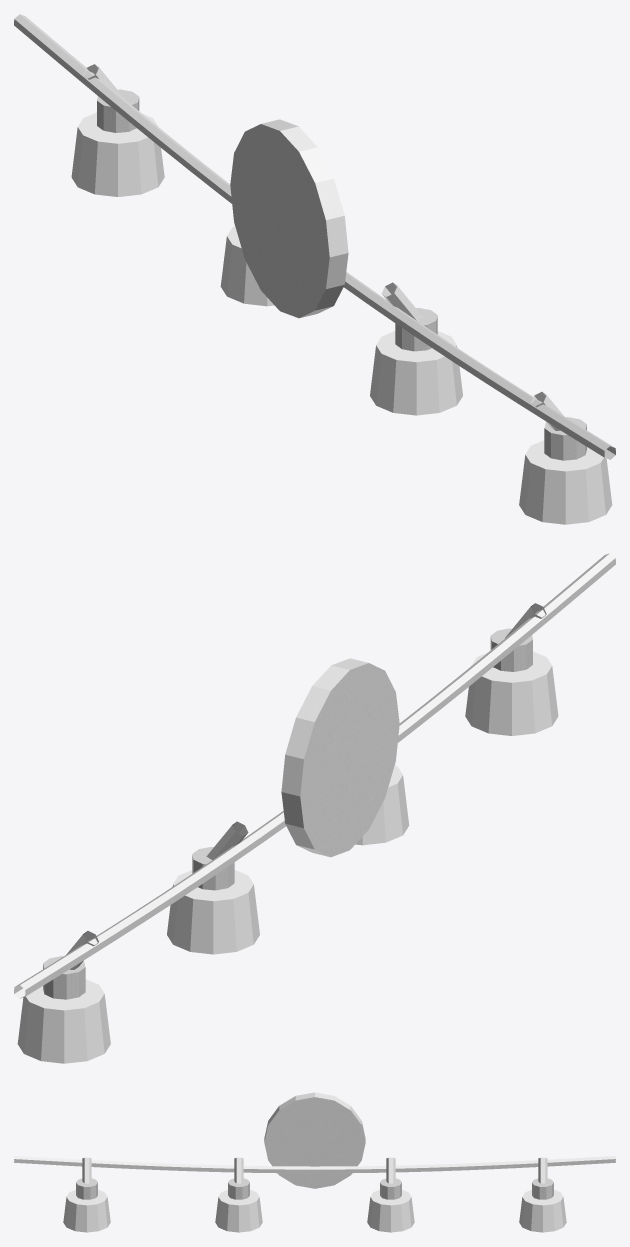
The model's file is patioglobestring.obj.
3 views of the same model, one above another, from view 1: azimuth 30°, elevation 25°; view 2: azimuth 150°, elevation 25°; view 3: azimuth 270°, elevation 25° (orthographic). The views are drawn at different scales.
Parts seen in each view (by area): view 1: Base, Metal, Light3, Light2, Light0, Trim, Light1; view 2: Base, Metal, Light0, Light1, Light3, Trim, Light2; view 3: Base, Metal, Trim, Light0, Light3, Light1, Light2.
Boxes of the visible parts, <box> form: Base: <box>230,119,348,318</box>; Metal: <box>14,14,615,459</box>; Light3: <box>519,440,612,524</box>; Light2: <box>370,331,462,415</box>; Light0: <box>71,112,164,196</box>; Trim: <box>97,89,586,460</box>; Light1: <box>220,226,274,306</box>; Base: <box>281,658,399,857</box>; Metal: <box>14,553,615,998</box>; Light0: <box>17,979,110,1063</box>; Light1: <box>167,870,259,954</box>; Light3: <box>465,651,558,735</box>; Trim: <box>43,628,532,999</box>; Light2: <box>355,765,409,845</box>; Base: <box>264,1092,365,1188</box>; Metal: <box>14,1156,615,1183</box>; Trim: <box>76,1178,553,1199</box>; Light0: <box>519,1189,566,1232</box>; Light3: <box>63,1189,110,1232</box>; Light1: <box>367,1189,414,1232</box>; Light2: <box>215,1189,262,1232</box>.
Bounding box in the file's own units: 0.19 × 0.4 × 1.9.
